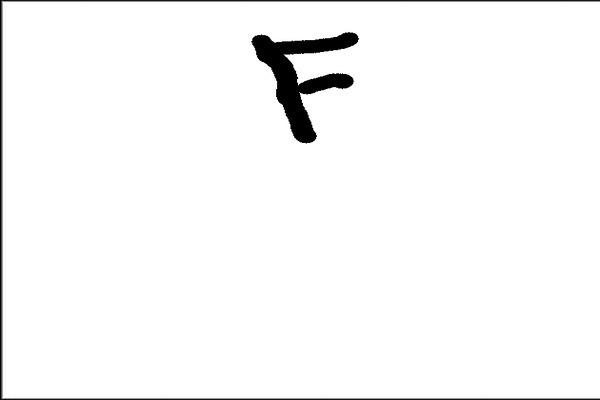F: (246, 28, 362, 147)
